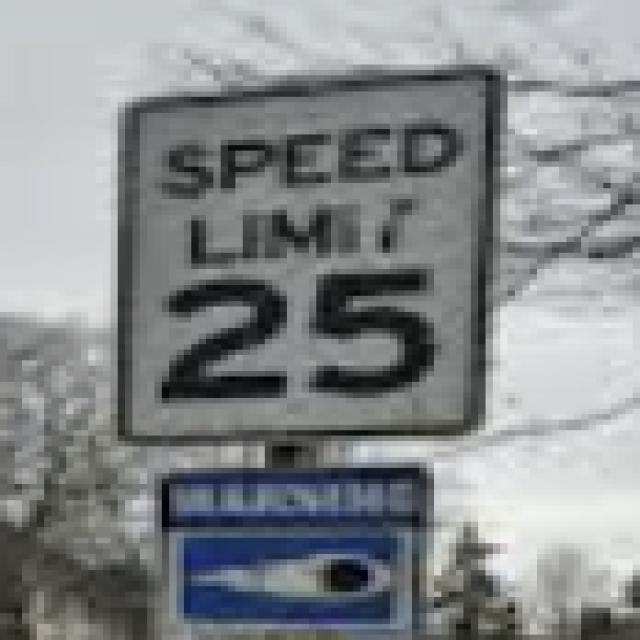speedLimit25: (120, 77, 484, 438)
